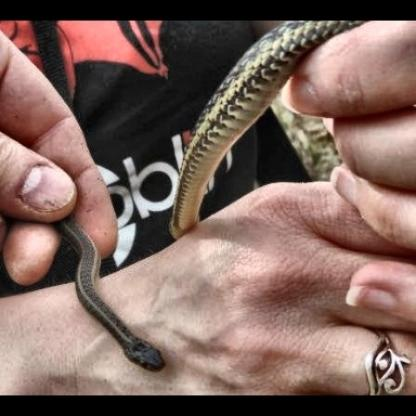Snake: (56, 217, 169, 376)
